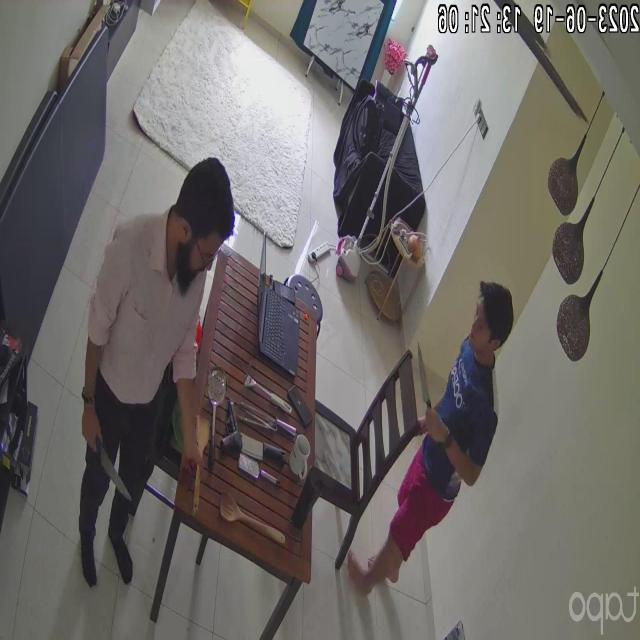Knife: (83, 424, 139, 513), (411, 328, 447, 425)
